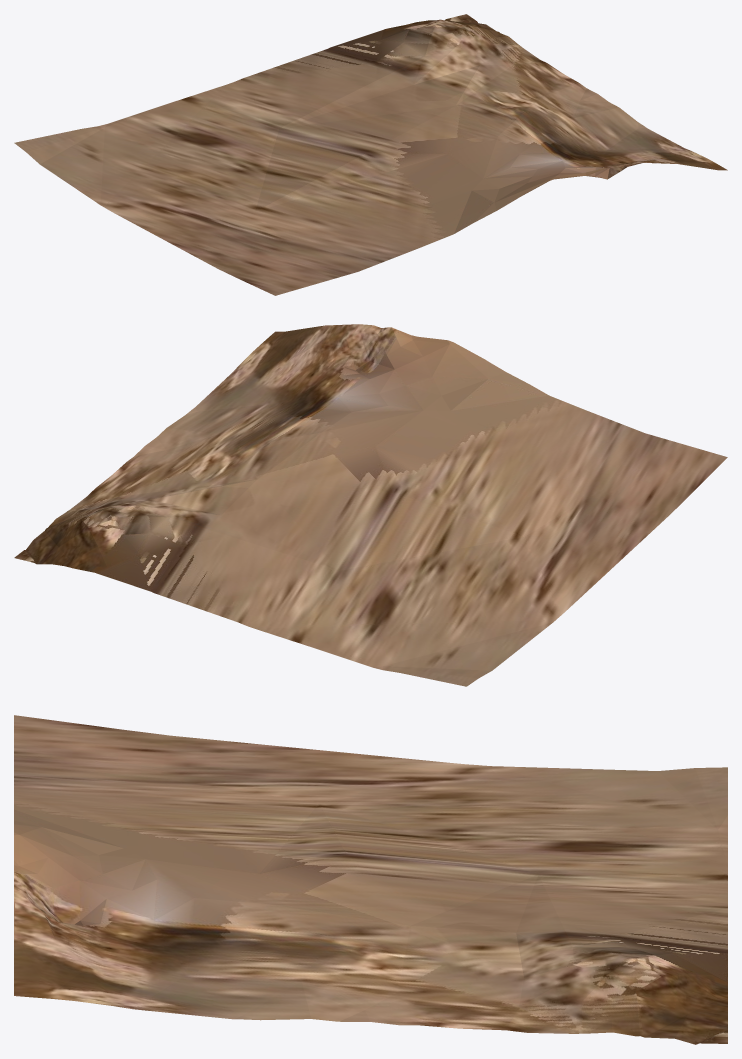
The picture shows the model from 3 angles, top to bottom: view 1: azimuth 30°, elevation 25°; view 2: azimuth 150°, elevation 25°; view 3: azimuth 270°, elevation 25°; orthographic projection. The views are drawn at different scales.
Size of the model in its own units: 1.04 by 0.2001 by 1.04.
3 materials, 3 textured.
